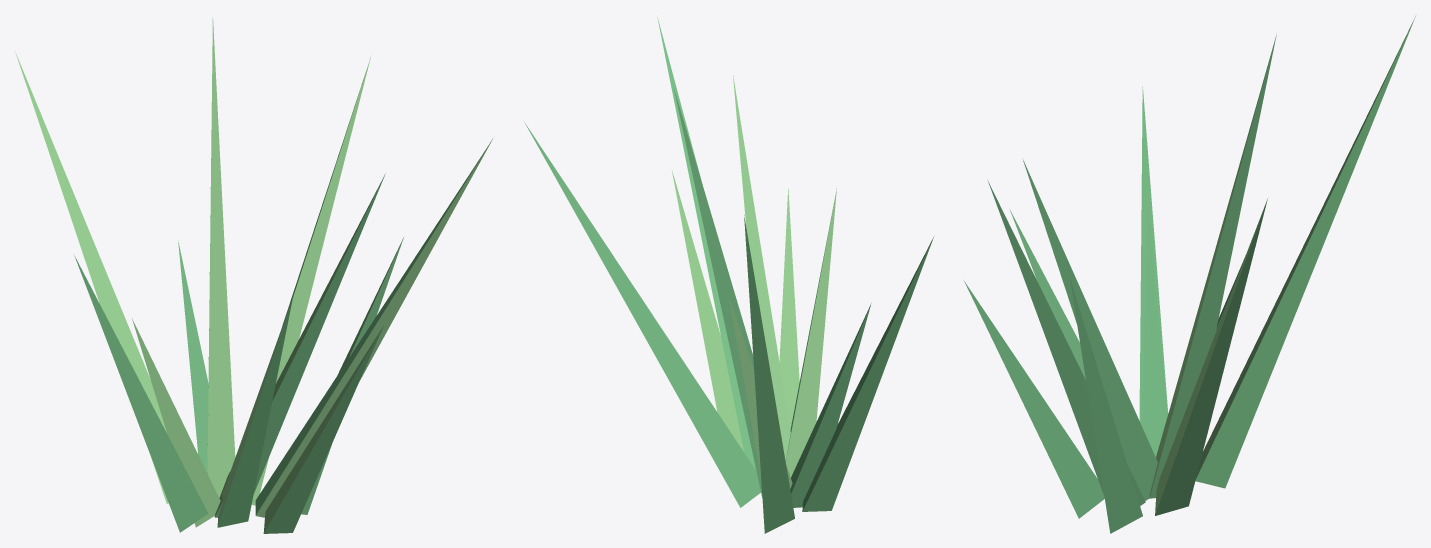
The model's file is grass_tuft.glb.
The picture shows the model from 3 angles, left to right: view 1: azimuth 30°, elevation 25°; view 2: azimuth 150°, elevation 25°; view 3: azimuth 270°, elevation 25°; orthographic projection. The views are drawn at different scales.
Parts seen in each view (by area): view 1: Grass_Tuft; view 2: Grass_Tuft; view 3: Grass_Tuft.
Boxes of the visible parts, x1,y1,x2,y2 form: Grass_Tuft: (15, 17, 492, 533); Grass_Tuft: (524, 17, 933, 533); Grass_Tuft: (964, 16, 1415, 533).
Bounding box in the file's own units: 0.8995 × 1.09 × 0.9079.
